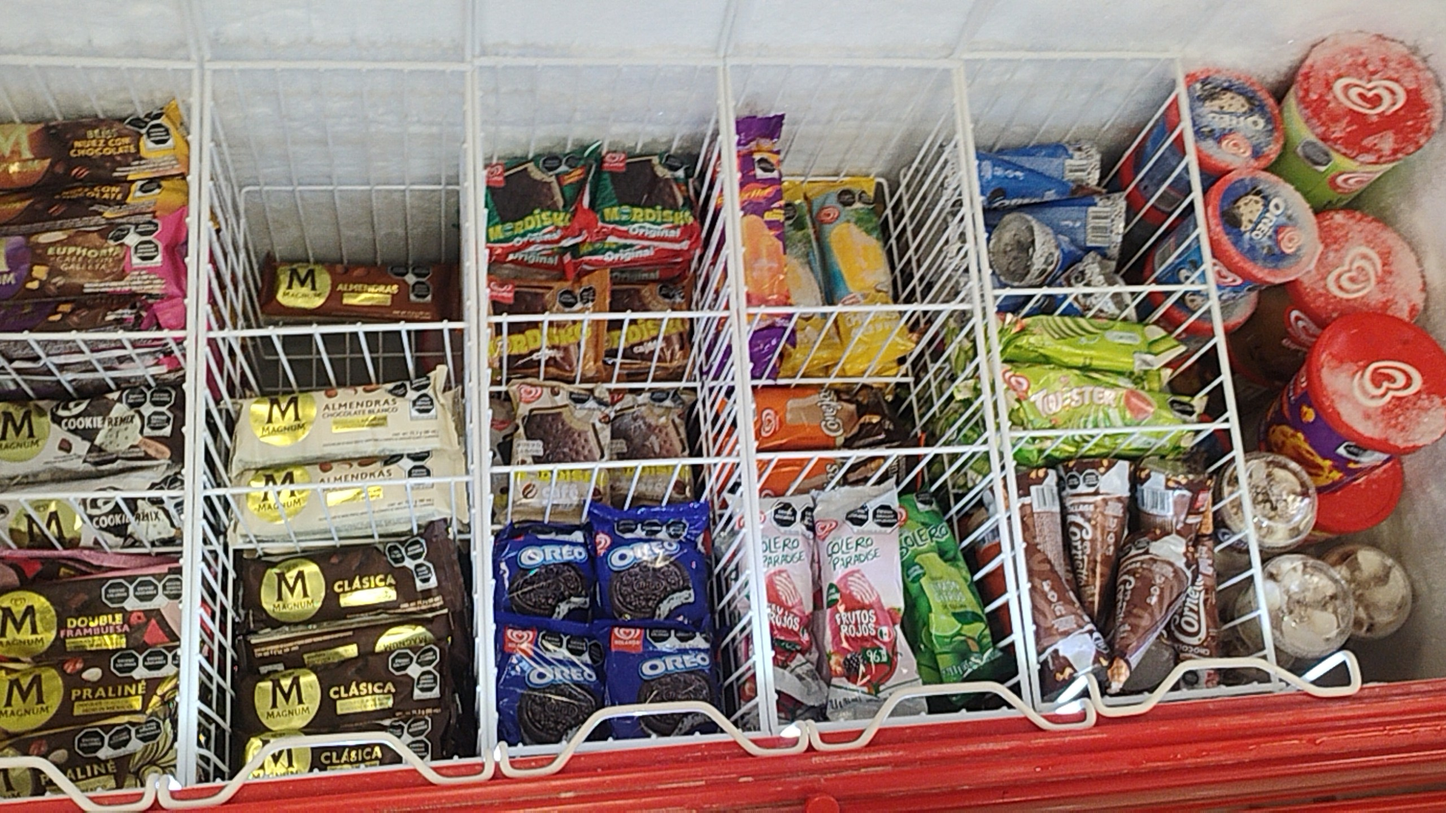rejilla: (1175, 61, 1280, 689), (957, 67, 1041, 710), (957, 61, 1032, 709), (726, 67, 774, 735), (723, 68, 770, 734), (464, 65, 490, 757), (187, 60, 210, 786), (178, 64, 200, 787), (474, 67, 496, 752), (193, 475, 477, 497), (208, 321, 472, 339), (484, 456, 739, 473), (484, 310, 738, 322), (756, 445, 988, 458), (1009, 422, 1230, 435), (726, 56, 962, 68), (475, 56, 724, 67), (0, 56, 200, 69), (204, 60, 470, 69), (993, 284, 1210, 294), (745, 303, 973, 312), (0, 332, 199, 341), (1, 490, 193, 499), (962, 51, 1182, 57)
